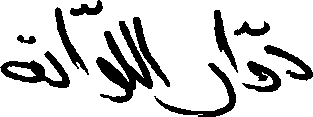ا: (134, 14, 168, 111), (66, 1, 85, 87), (222, 23, 235, 114)
ت: (43, 4, 68, 88)
د: (278, 46, 311, 88)
ر: (207, 8, 225, 116)
ل: (130, 14, 136, 99), (126, 23, 131, 102)
ه: (0, 33, 42, 83)
و: (95, 0, 127, 104), (246, 18, 279, 92)
